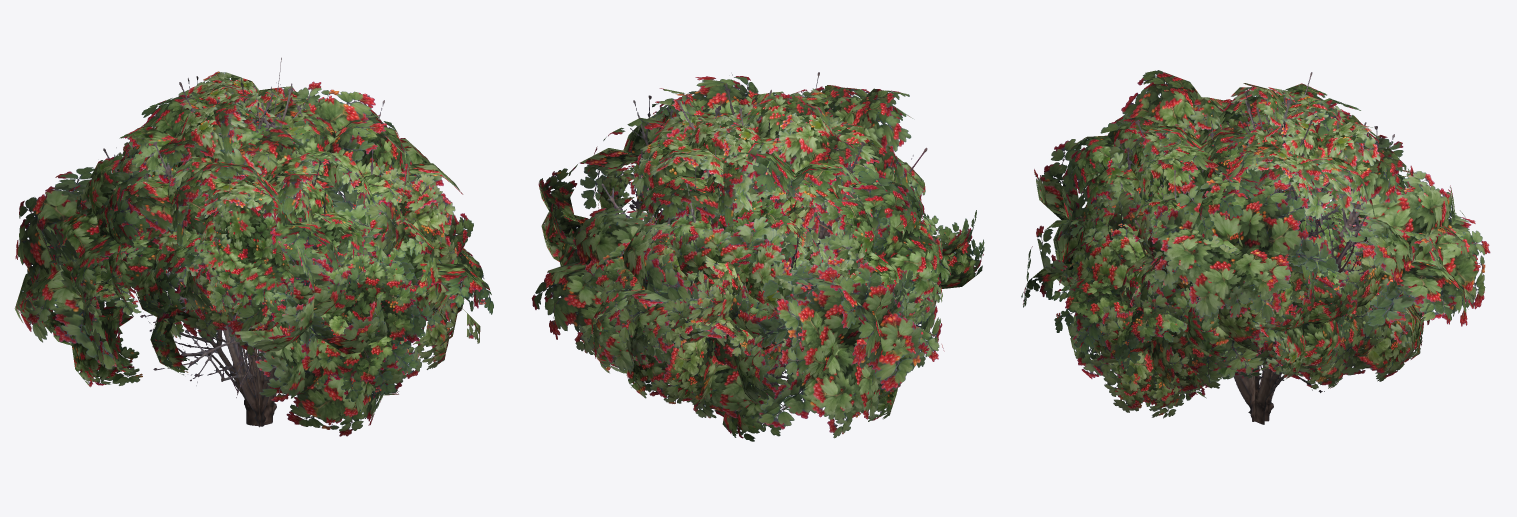
File: viburnum_bush.glb
3 renders of one model, left to right at view 1: azimuth 30°, elevation 25°; view 2: azimuth 150°, elevation 25°; view 3: azimuth 270°, elevation 25°, orthographic. The views are drawn at different scales.
Visible parts, largest first — view 1: viburnum_bush; view 2: viburnum_bush; view 3: viburnum_bush.
Boxes of the visible parts, x1,y1,x2,y2 form: viburnum_bush: [14, 57, 493, 436]; viburnum_bush: [531, 72, 984, 441]; viburnum_bush: [1021, 70, 1490, 424].
Bounding box in the file's own units: 3.02 × 2.4 × 3.17.
1 material, 1 textured.
